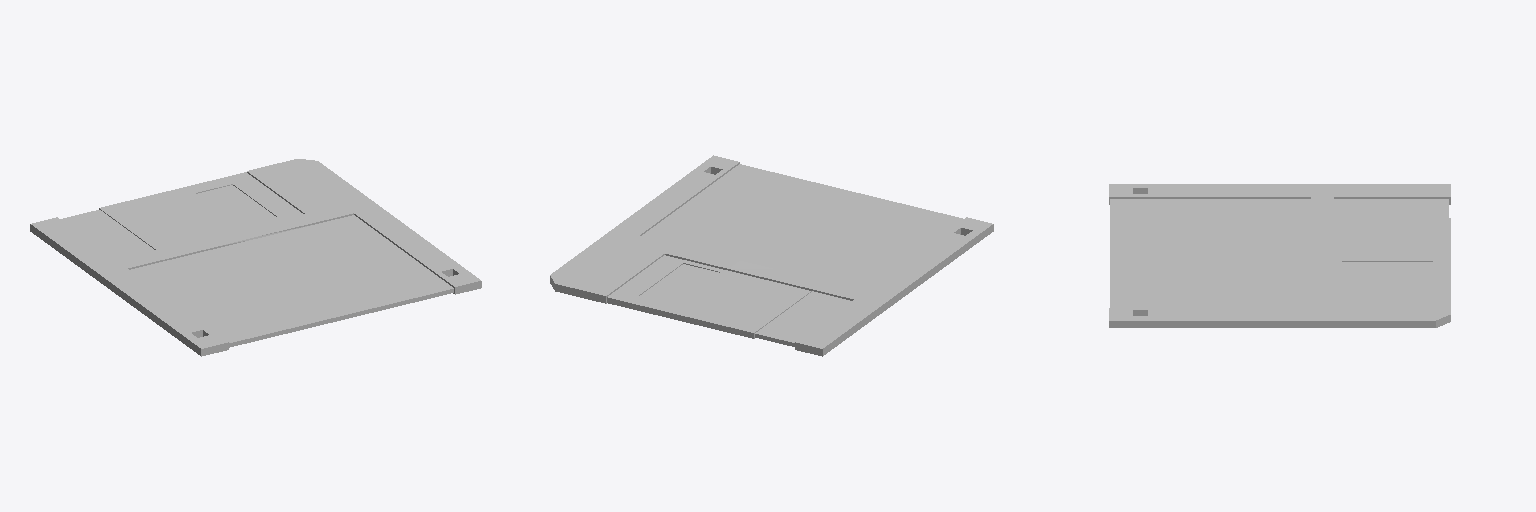
File: FloppyDisk.obj
3 views of the same model, side by side, from view 1: azimuth 30°, elevation 25°; view 2: azimuth 150°, elevation 25°; view 3: azimuth 270°, elevation 25° (orthographic).
Visible parts, largest first — view 1: FloppyDisk_FloppyDisk_mergedObject, FloppyDiskCap_FloppyDisk_mergedObject.007; view 2: FloppyDisk_FloppyDisk_mergedObject, FloppyDiskCap_FloppyDisk_mergedObject.007; view 3: FloppyDisk_FloppyDisk_mergedObject, FloppyDiskCap_FloppyDisk_mergedObject.007.
Boxes of the visible parts, x1=… form: FloppyDisk_FloppyDisk_mergedObject: x1=30, y1=159, x2=481, y2=356; FloppyDiskCap_FloppyDisk_mergedObject.007: x1=99, y1=172, x2=302, y2=249; FloppyDisk_FloppyDisk_mergedObject: x1=550, y1=155, x2=993, y2=356; FloppyDiskCap_FloppyDisk_mergedObject.007: x1=607, y1=255, x2=811, y2=338; FloppyDisk_FloppyDisk_mergedObject: x1=1109, y1=184, x2=1450, y2=327; FloppyDiskCap_FloppyDisk_mergedObject.007: x1=1336, y1=218, x2=1450, y2=288.
Bounding box in the file's own units: 0.0889 × 0.0024 × 0.094.